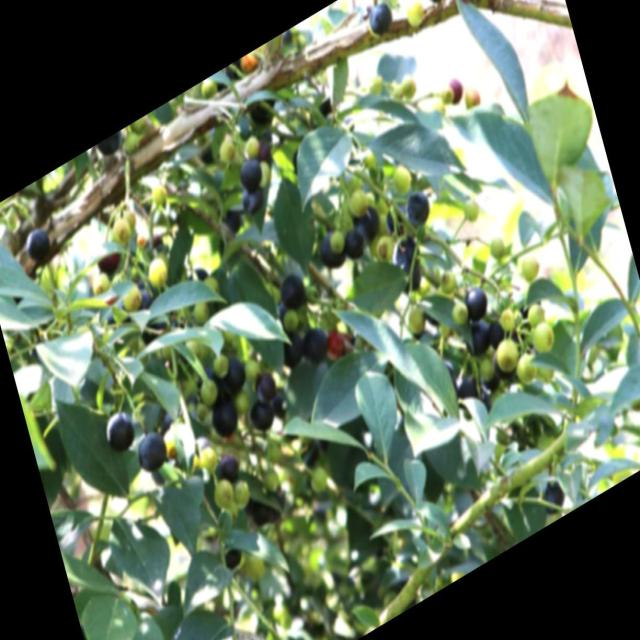blueberry: (130, 420, 172, 480), (458, 276, 493, 329), (101, 403, 136, 455), (534, 474, 570, 524), (229, 148, 266, 196), (275, 322, 309, 374), (17, 218, 52, 266), (361, 0, 397, 45), (458, 313, 492, 360), (390, 230, 423, 278), (211, 442, 244, 490), (299, 317, 331, 366), (315, 228, 349, 274), (276, 268, 310, 314), (192, 364, 224, 410), (208, 394, 240, 439), (351, 200, 382, 246), (401, 186, 432, 230), (487, 342, 518, 386), (452, 373, 482, 418), (484, 306, 514, 348), (234, 184, 266, 223), (217, 347, 246, 390), (247, 396, 275, 436), (252, 370, 282, 406), (343, 223, 368, 260), (271, 391, 289, 418), (419, 0, 452, 9)
blueberry-halfripe: (322, 324, 346, 362), (444, 74, 465, 106)
blueberry-unripe: (527, 316, 557, 359), (494, 332, 522, 373), (512, 347, 538, 388), (345, 182, 371, 219), (389, 158, 413, 197), (372, 230, 396, 267), (458, 82, 483, 114), (458, 193, 482, 226), (404, 301, 426, 336), (518, 250, 541, 283), (402, 0, 426, 30), (496, 302, 517, 333), (438, 264, 458, 296), (449, 296, 469, 328), (486, 232, 506, 262), (326, 227, 346, 255), (428, 92, 448, 120), (398, 70, 418, 98), (525, 300, 545, 326), (382, 0, 402, 5), (404, 0, 427, 1)
